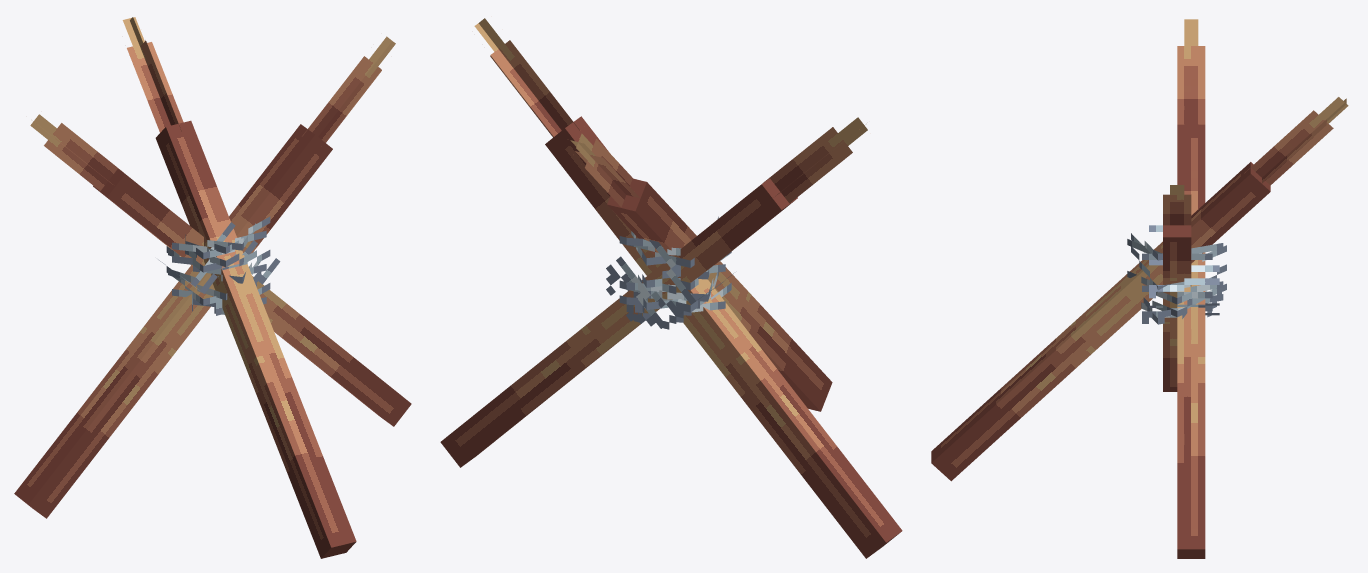
Rendered from wood-barricade-1.gltf.
3 renders of one model, left to right at view 1: azimuth 30°, elevation 25°; view 2: azimuth 150°, elevation 25°; view 3: azimuth 270°, elevation 25°, orthographic. The views are drawn at different scales.
Parts seen in each view (by area): view 1: cube; view 2: cube; view 3: cube.
Boxes of the visible parts, bbox=[...] form: cube: bbox=[14, 17, 411, 558]; cube: bbox=[440, 18, 902, 558]; cube: bbox=[931, 19, 1348, 558].
Bounding box in the file's own units: 1.93 × 1.87 × 1.87.
1 material, 1 textured.
